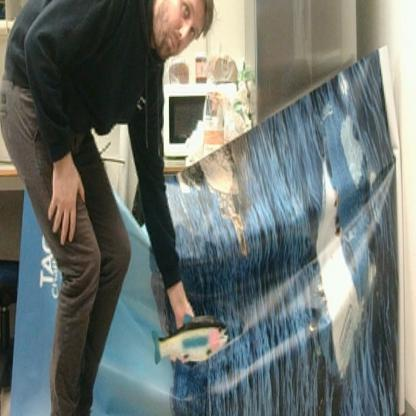rubberfish: (151, 315, 228, 365)
